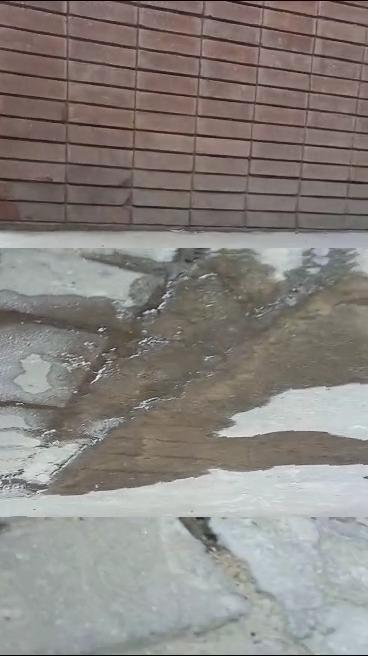water accumulation: (0, 249, 368, 497)
